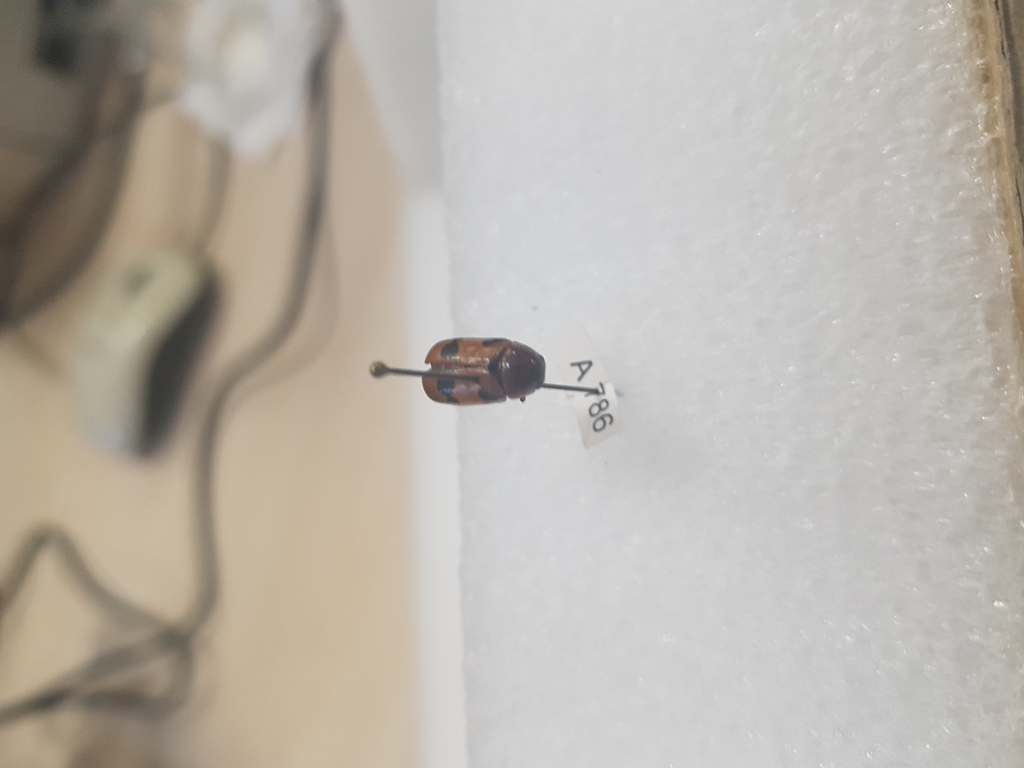Clytra_novempunctata: (419, 330, 554, 413)
